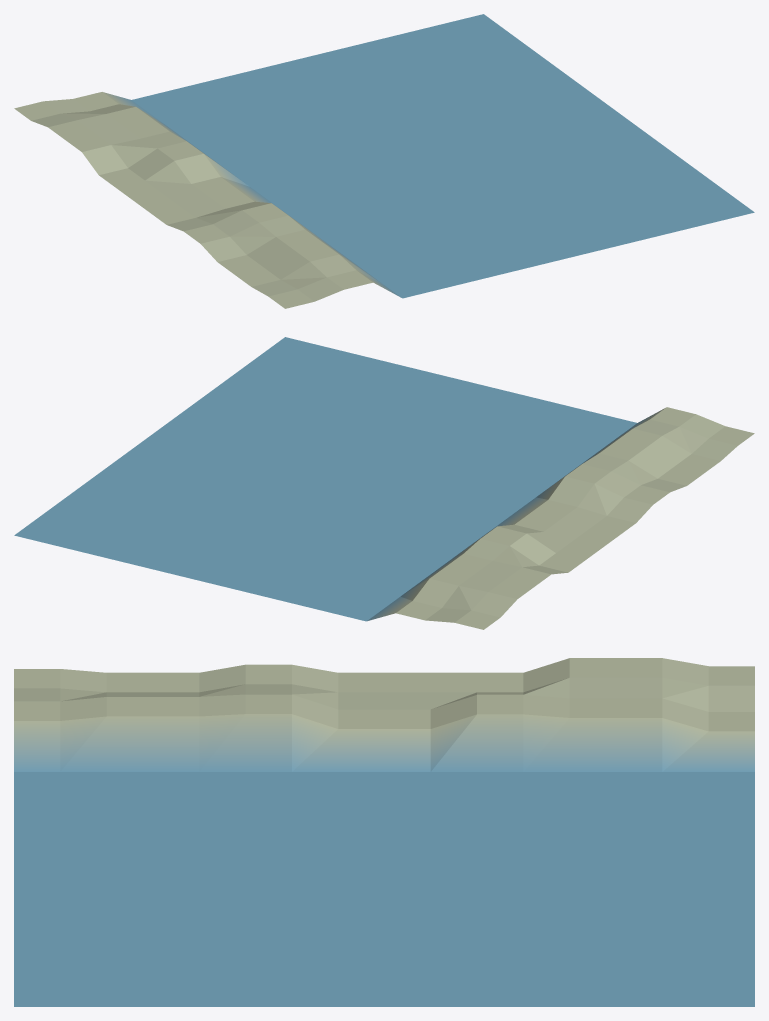
The picture shows the model from 3 angles, top to bottom: view 1: azimuth 30°, elevation 25°; view 2: azimuth 150°, elevation 25°; view 3: azimuth 270°, elevation 25°; orthographic projection. The views are drawn at different scales.
Bounding box in the file's own units: 32 × 1.83 × 32.
